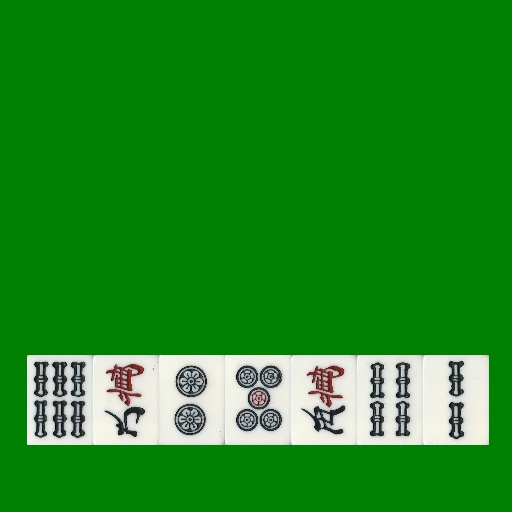2p: (159, 355, 225, 445)
2s: (423, 355, 489, 445)
4s: (357, 355, 423, 445)
5m: (291, 355, 357, 445)
5p: (225, 355, 291, 445)
6s: (27, 355, 93, 445)
9m: (93, 355, 159, 445)
